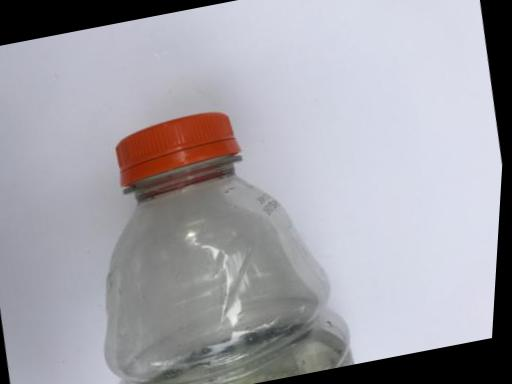plastic: (53, 87, 374, 384)
